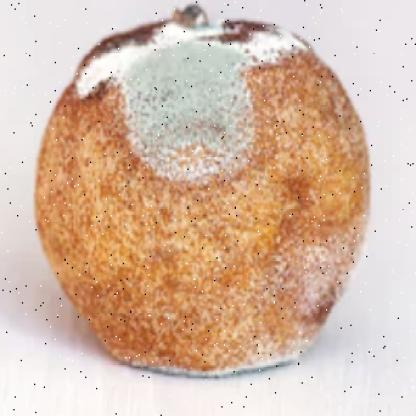rotten: (33, 8, 370, 379)
